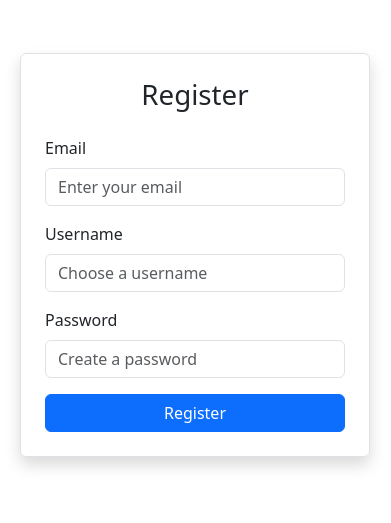
Test: RegisterForm Component Testing › displays generic error if response has no detail
In the field with placeholder "Enter your email": [195, 187] box [45, 168, 345, 206], type "test@example.com"
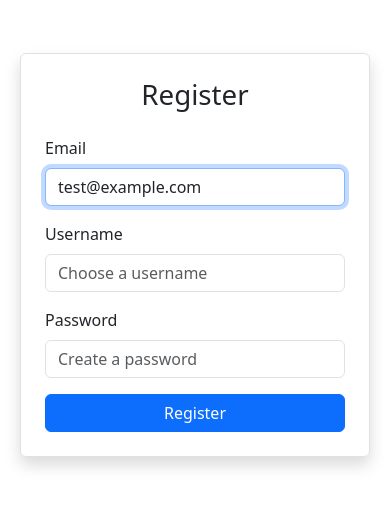
In the field with placeholder "Choose a username": [195, 273] box [45, 254, 345, 292], type "testuser"
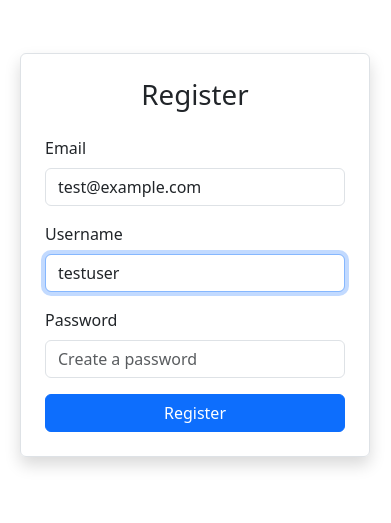
In the password field with placeholder "Create a password": [195, 359] box [45, 340, 345, 378], type "password123"
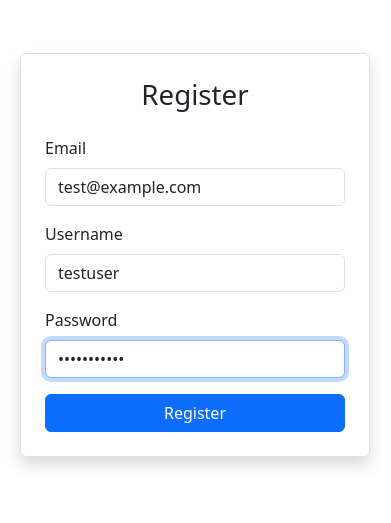
Click the button "Register": [195, 413] box [45, 394, 345, 432]
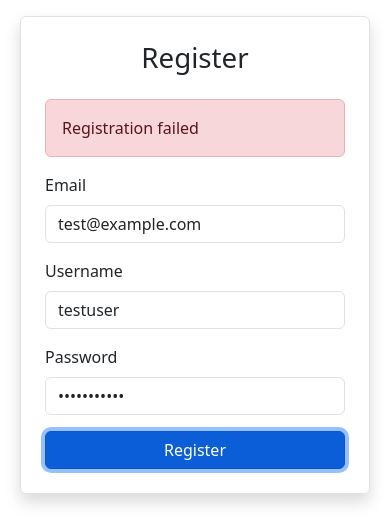
Result: the text "Registration failed" is shown at [45, 99, 345, 157]
